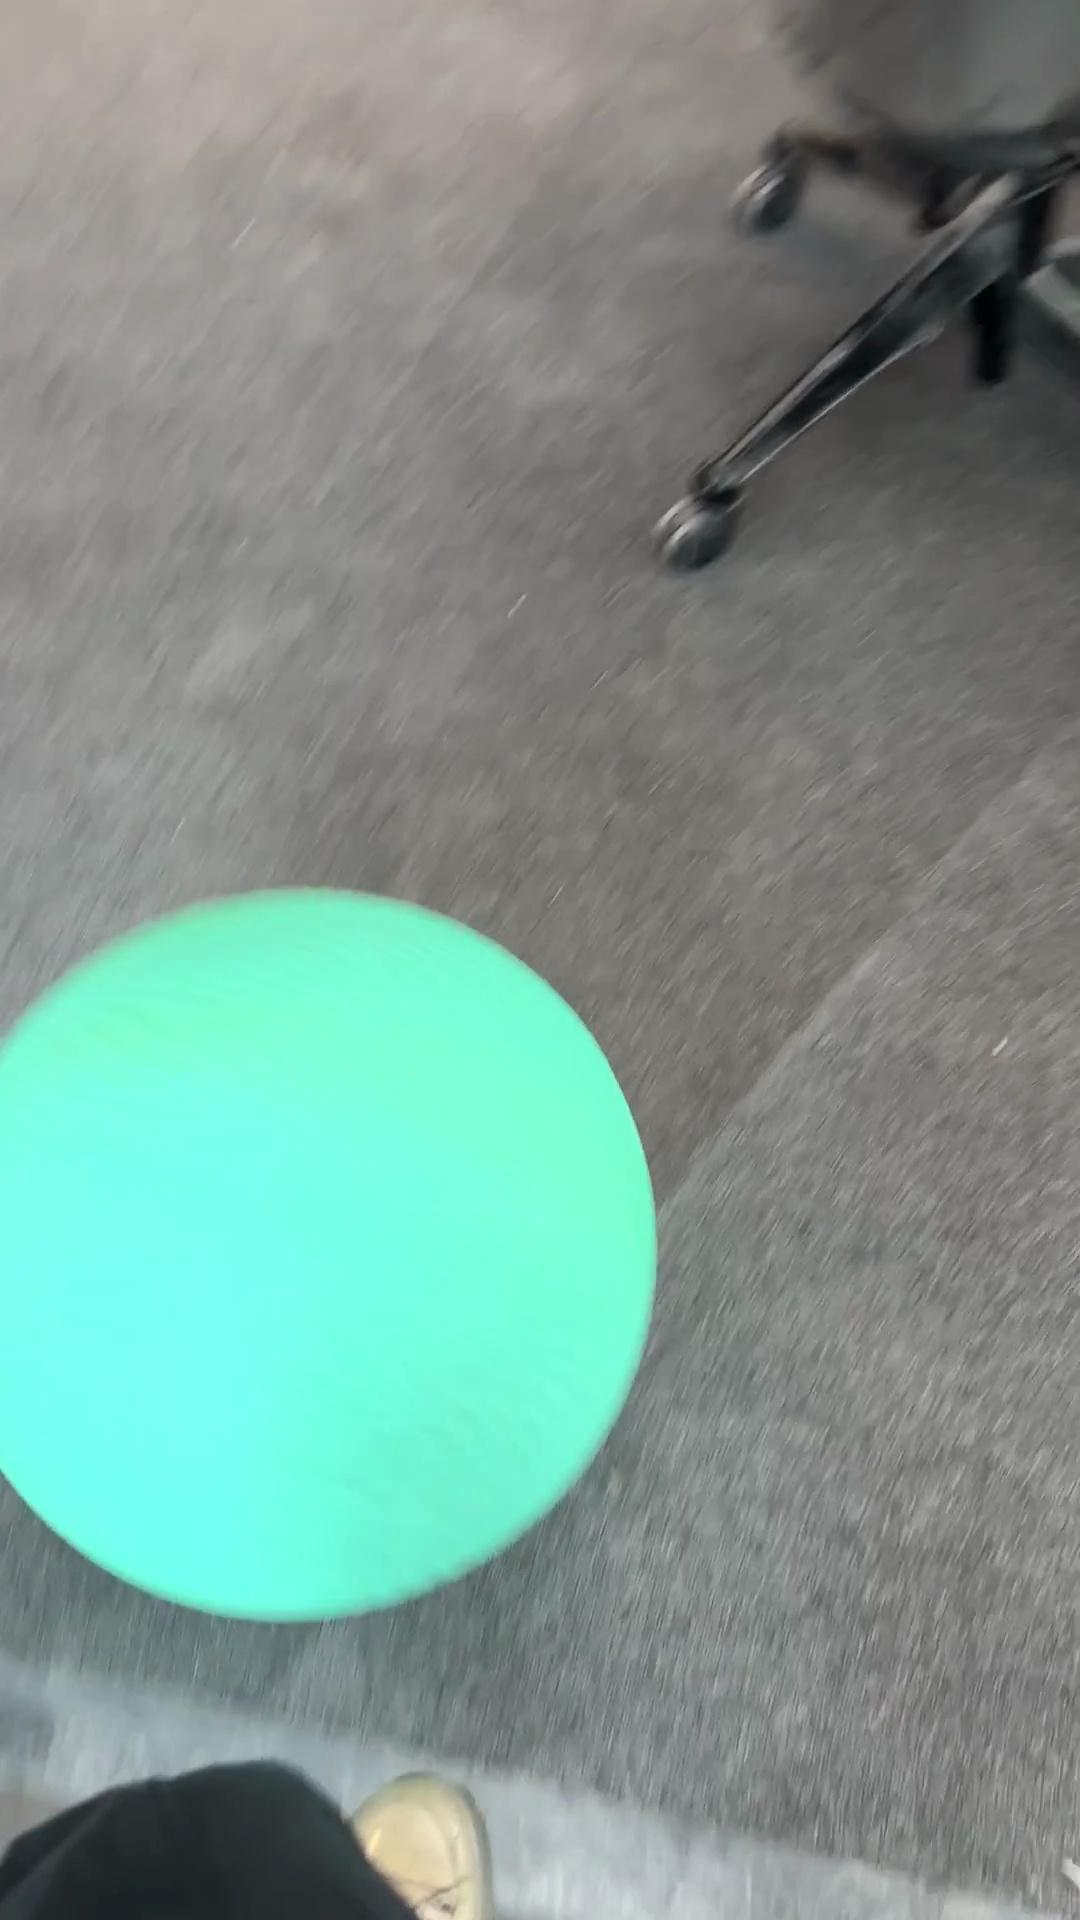ALGAE: (1, 884, 661, 1625)
